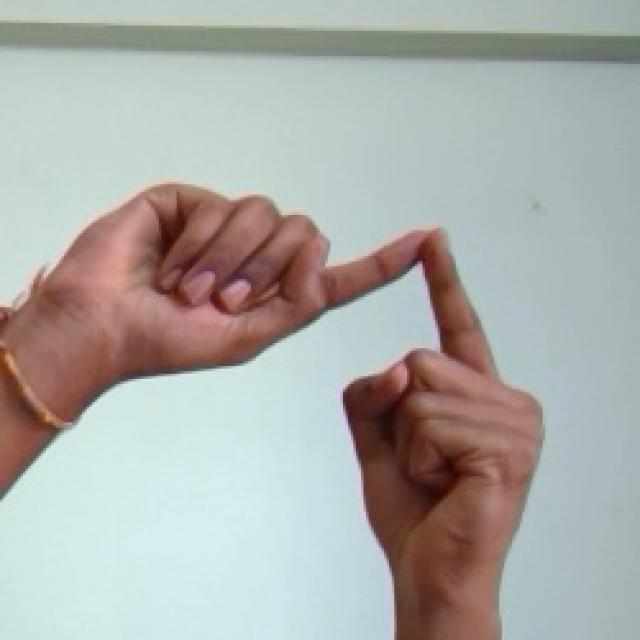Alphabet-E: (1, 184, 545, 640)
